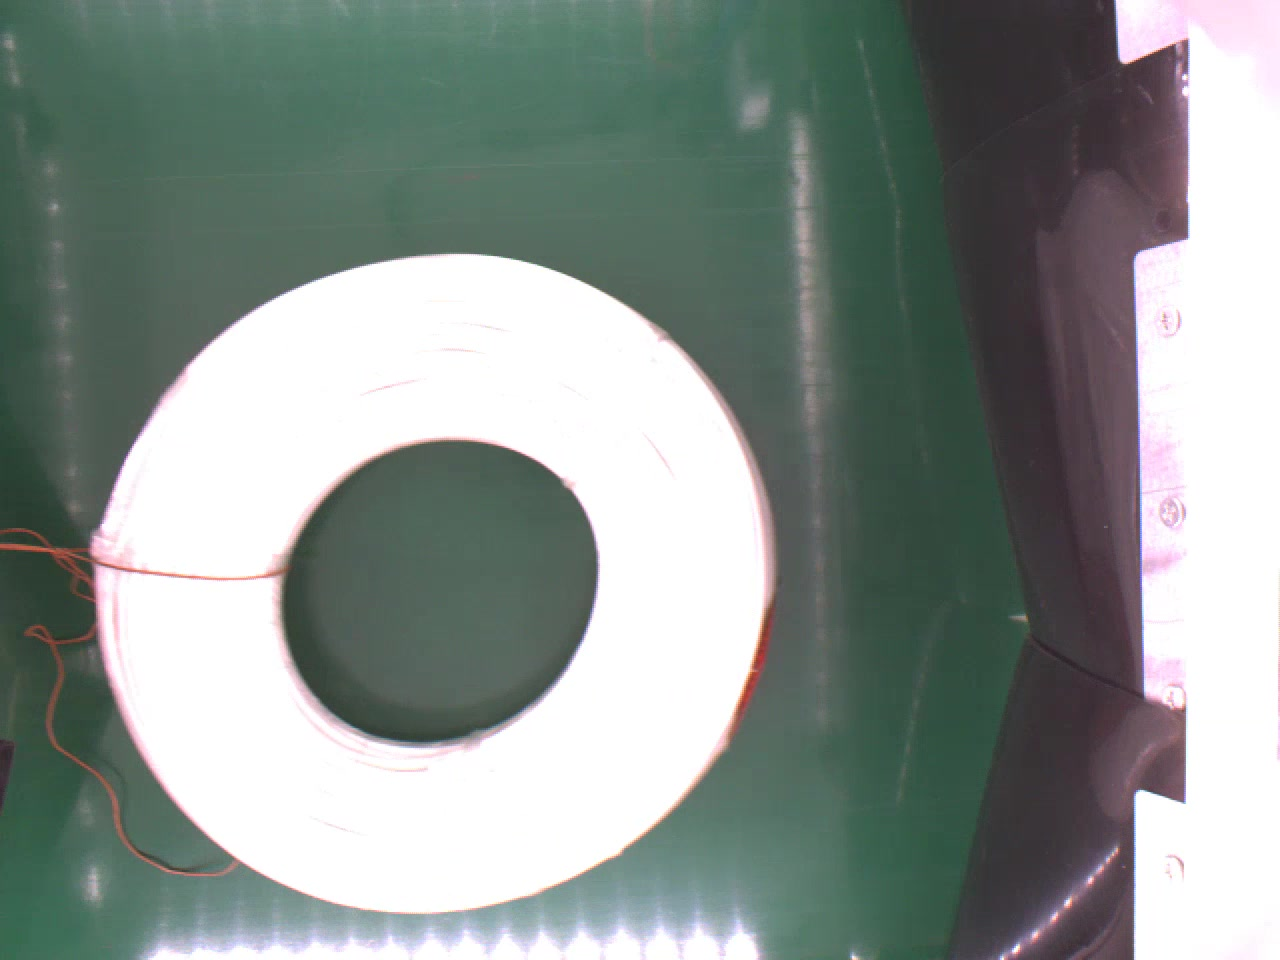white: (93, 244, 766, 913)
